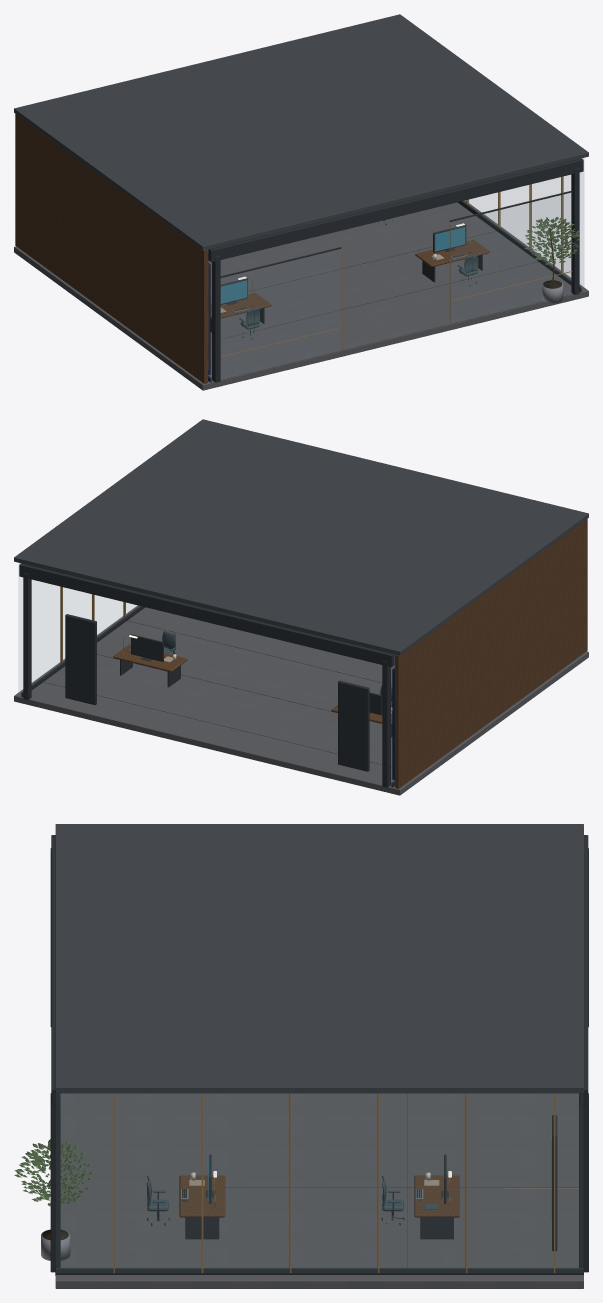
Rendered from environment-4.glb.
3 views of the same model, one above another, from view 1: azimuth 30°, elevation 25°; view 2: azimuth 150°, elevation 25°; view 3: azimuth 270°, elevation 25° (orthographic). The views are drawn at different scales.
Visible parts, largest first — view 1: Continuous floor slab; view 2: Continuous floor slab; view 3: Continuous floor slab.
Part boxes in pixels (x1,y1,x2,y2): Continuous floor slab: [14, 14, 588, 390]; Continuous floor slab: [14, 419, 588, 795]; Continuous floor slab: [14, 824, 588, 1288].
Size of the model in its own units: 17 by 6.06 by 15.67.
Materials: 17 (4 with a texture image).
